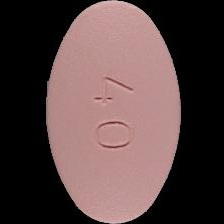54868-1890: (0, 0, 224, 224)
